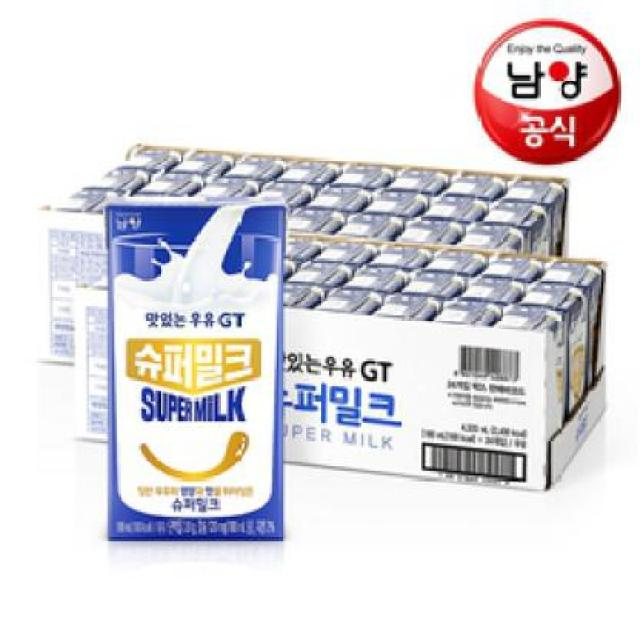tetra: (98, 174, 298, 569)
